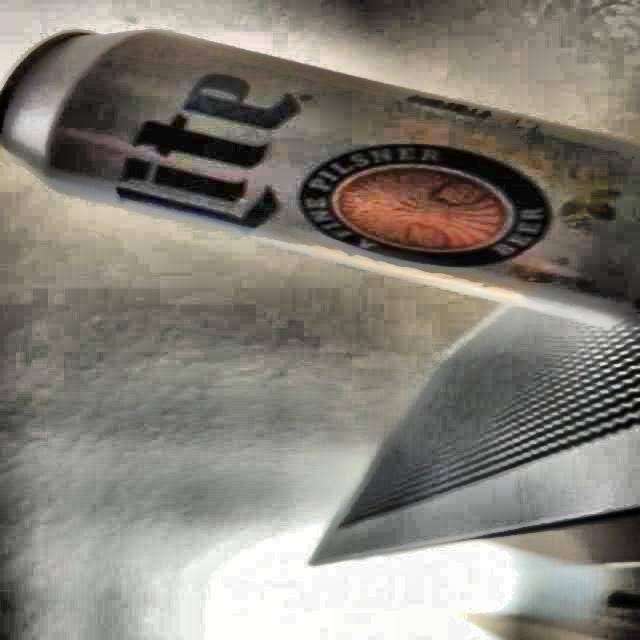can: (0, 18, 640, 350)
